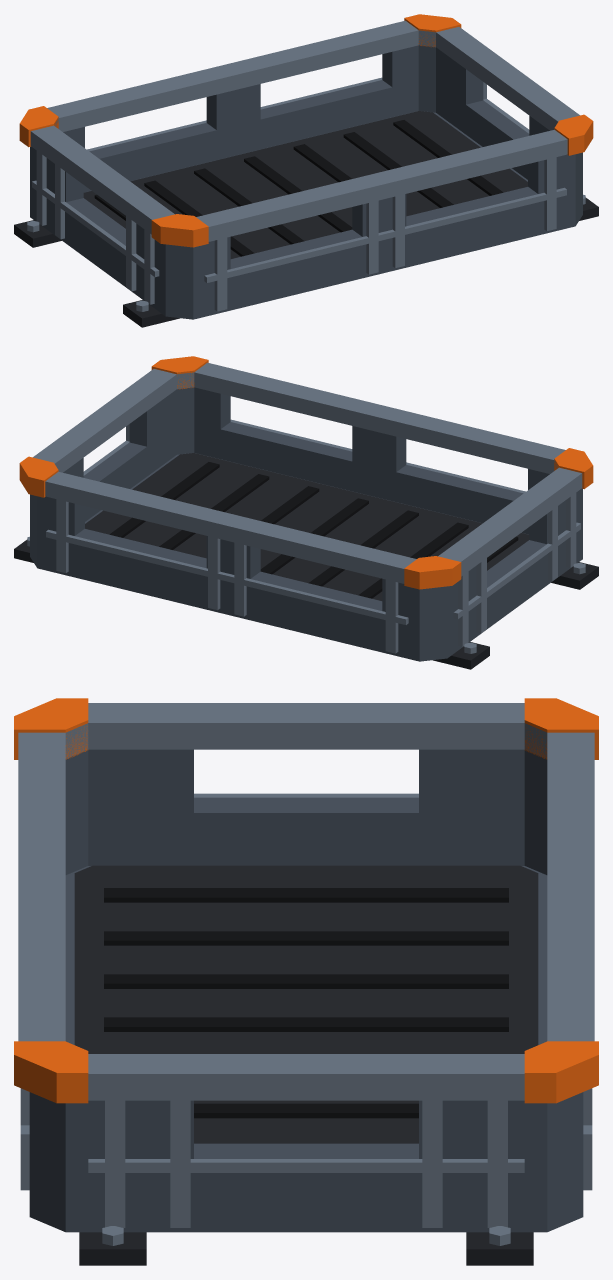
The model's file is cargo_rack.dae.
3 views of the same model, one above another, from view 1: azimuth 30°, elevation 25°; view 2: azimuth 150°, elevation 25°; view 3: azimuth 270°, elevation 25° (orthographic). The views are drawn at different scales.
Parts seen in each view (by area): view 1: cargo_rack; view 2: cargo_rack; view 3: cargo_rack.
Part boxes in pixels (left/top/right/bottom): cargo_rack: left=14, top=14, right=598, bottom=327; cargo_rack: left=14, top=356, right=598, bottom=669; cargo_rack: left=14, top=698, right=598, bottom=1265.
Bounding box in the file's own units: 0.416 × 0.26 × 0.0895.
